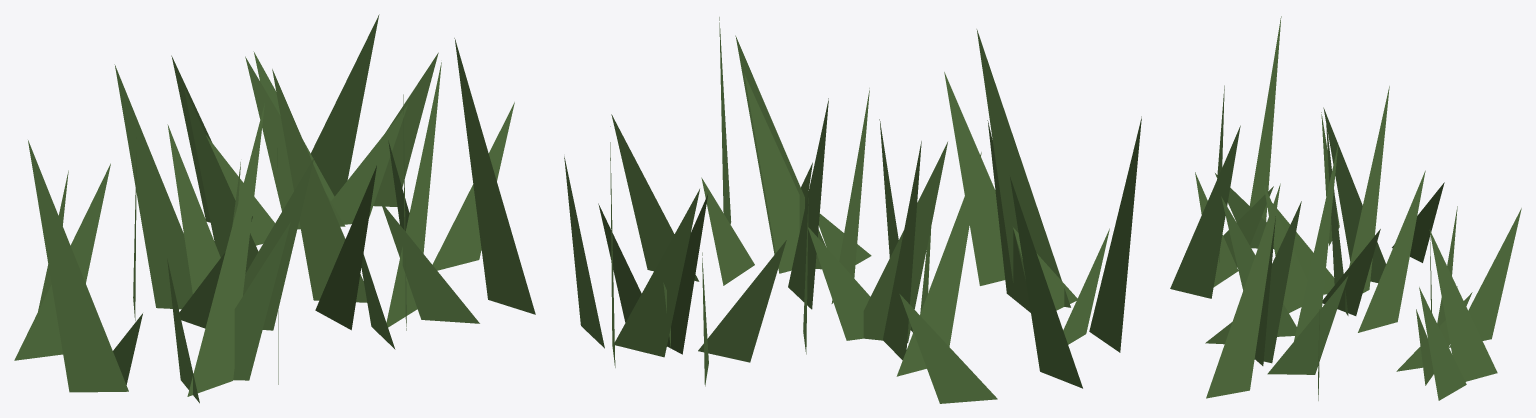
The model's file is grass.glb.
The picture shows the model from 3 angles, left to right: view 1: azimuth 30°, elevation 25°; view 2: azimuth 150°, elevation 25°; view 3: azimuth 270°, elevation 25°; orthographic projection. The views are drawn at different scales.
Visible parts, largest first — view 1: grass; view 2: grass; view 3: grass.
Boxes of the visible parts, bbox=[...] form: grass: bbox=[14, 14, 535, 403]; grass: bbox=[564, 17, 1141, 403]; grass: bbox=[1170, 16, 1521, 400].
Size of the model in its own units: 0.9884 by 0.4947 by 0.7344.
